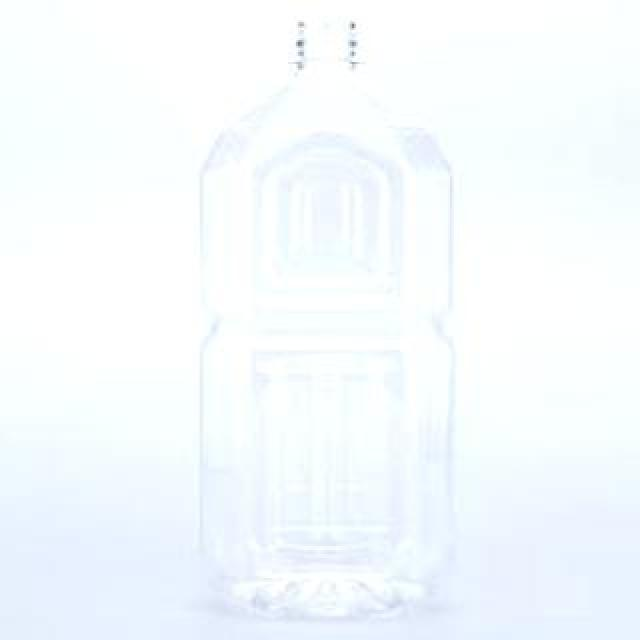Pet_Bottle: (172, 19, 462, 621)
